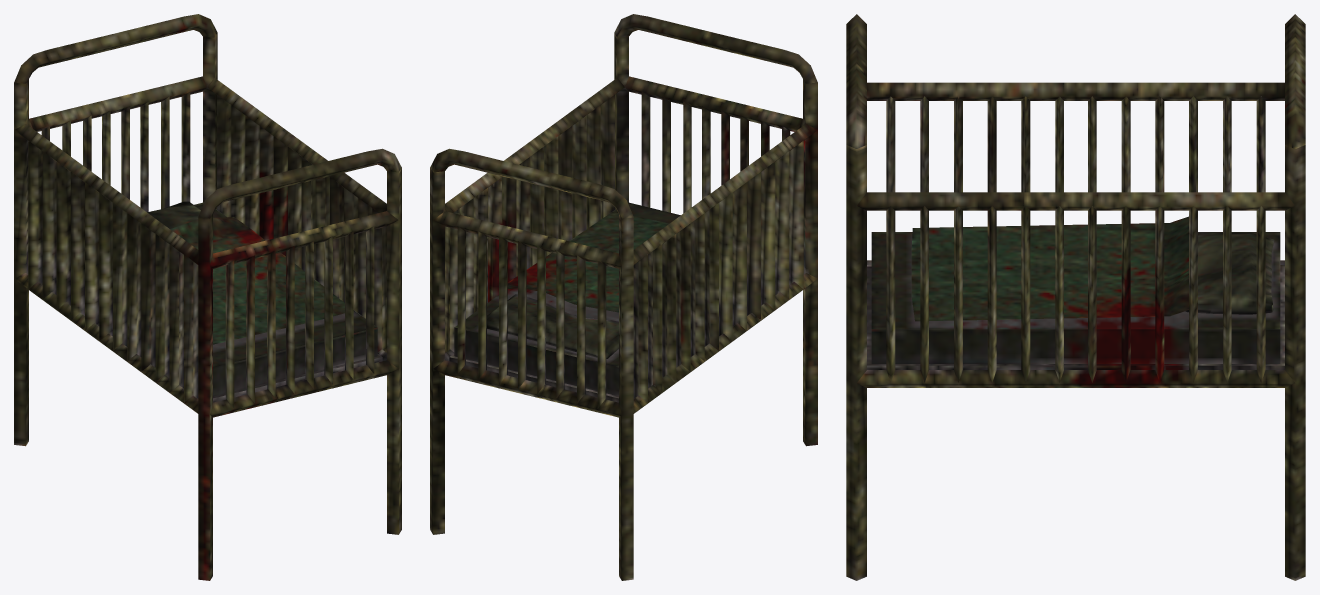
The model's file is Crib_EmbeddedMedia.fbx.
The picture shows the model from 3 angles, left to right: view 1: azimuth 30°, elevation 25°; view 2: azimuth 150°, elevation 25°; view 3: azimuth 270°, elevation 25°; orthographic projection. The views are drawn at different scales.
Parts seen in each view (by area): view 1: Cage, Blanket_low, Mattress, Pillow_low, Bottom; view 2: Cage, Mattress, Blanket_low, Pillow_low, Bottom; view 3: Cage, Blanket_low, Mattress, Pillow_low, Bottom.
Boxes of the visible parts, x1=… form: Cage: x1=14, y1=14, x2=401, y2=580; Blanket_low: x1=170, y1=217, x2=354, y2=344; Mattress: x1=194, y1=202, x2=377, y2=396; Pillow_low: x1=147, y1=201, x2=200, y2=228; Bottom: x1=213, y1=354, x2=382, y2=402; Cage: x1=430, y1=14, x2=817, y2=580; Mattress: x1=454, y1=202, x2=680, y2=396; Blanket_low: x1=507, y1=212, x2=668, y2=312; Pillow_low: x1=487, y1=294, x2=618, y2=358; Bottom: x1=449, y1=354, x2=618, y2=402; Cage: x1=846, y1=14, x2=1305, y2=580; Blanket_low: x1=911, y1=216, x2=1188, y2=321; Mattress: x1=871, y1=232, x2=1280, y2=363; Pillow_low: x1=1185, y1=232, x2=1274, y2=314; Bottom: x1=867, y1=265, x2=1284, y2=369.
Size of the model in its own units: 22.02 by 39.97 by 36.08.
1 material, 1 textured.
